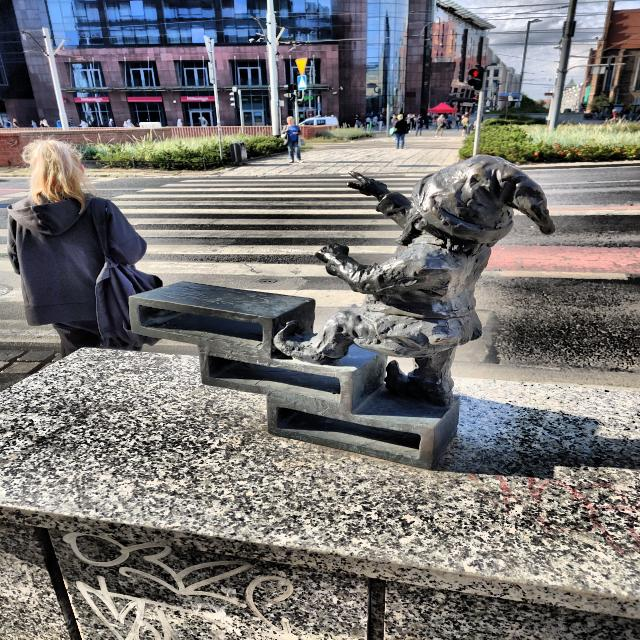Elementek: (130, 155, 555, 469)
